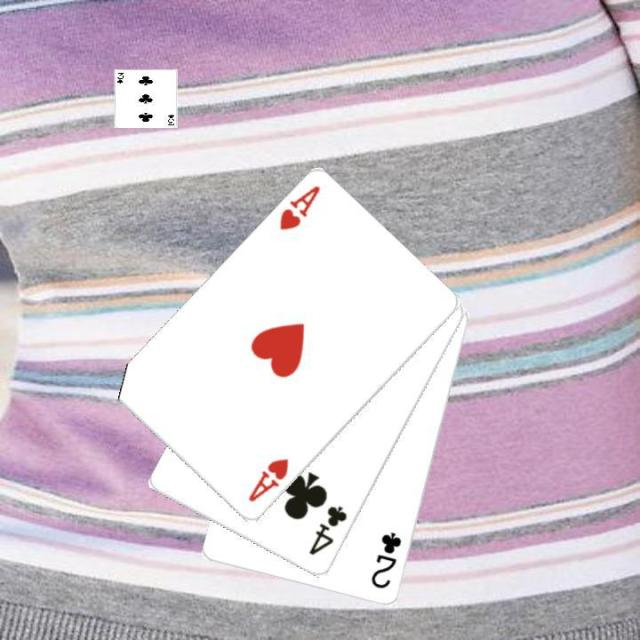2C: (367, 529, 404, 591)
4C: (305, 502, 349, 558)
AH: (243, 454, 290, 505), (276, 182, 322, 233)
